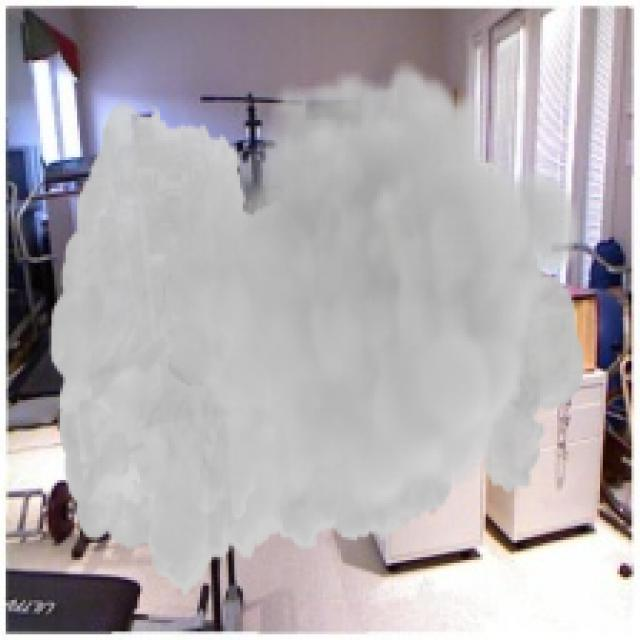Smoke: (48, 60, 586, 600)
